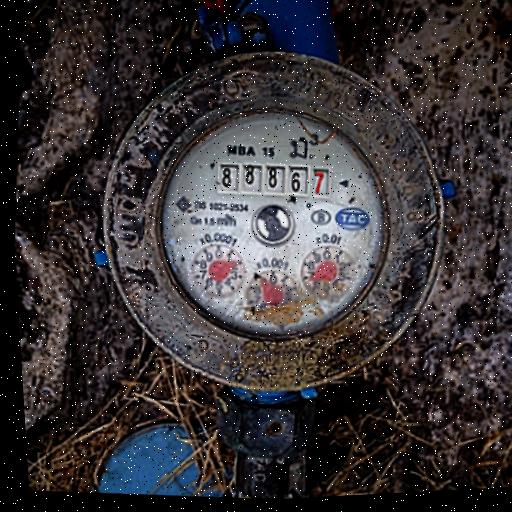6: (288, 168, 310, 194)
7: (312, 169, 330, 194)
8: (242, 166, 264, 192), (218, 165, 239, 191), (265, 165, 283, 191)
border_water_meter_number: (210, 153, 338, 207)
